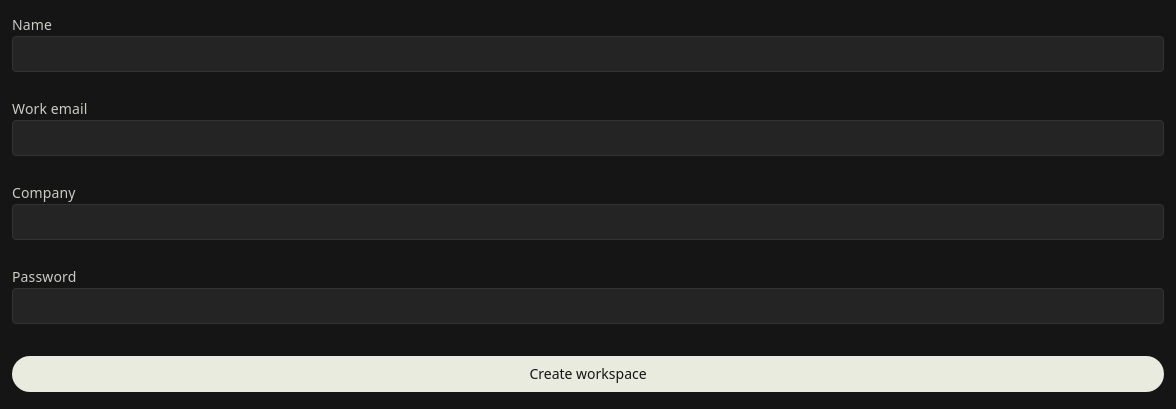
Test case: SignupForm › disables the button and swaps its label while signupAction is pending
Type "Ada Speke" into the field labelled "Name" at (588, 54), box top-left (12, 36), bottom-right (1164, 72)
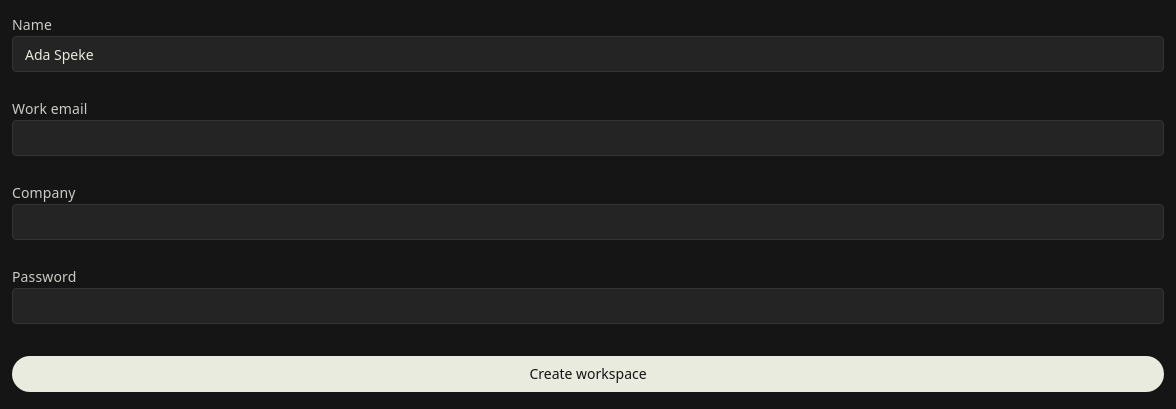
Type "ada@wexley.example" into the field labelled "Work email" at (588, 138), box top-left (12, 120), bottom-right (1164, 156)
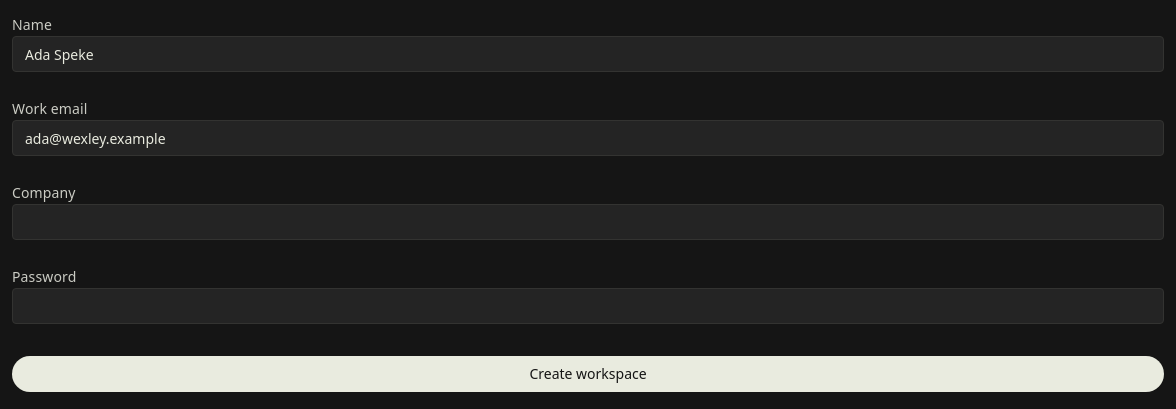
Type "Wexley" into the field labelled "Company" at (588, 222), box top-left (12, 204), bottom-right (1164, 240)
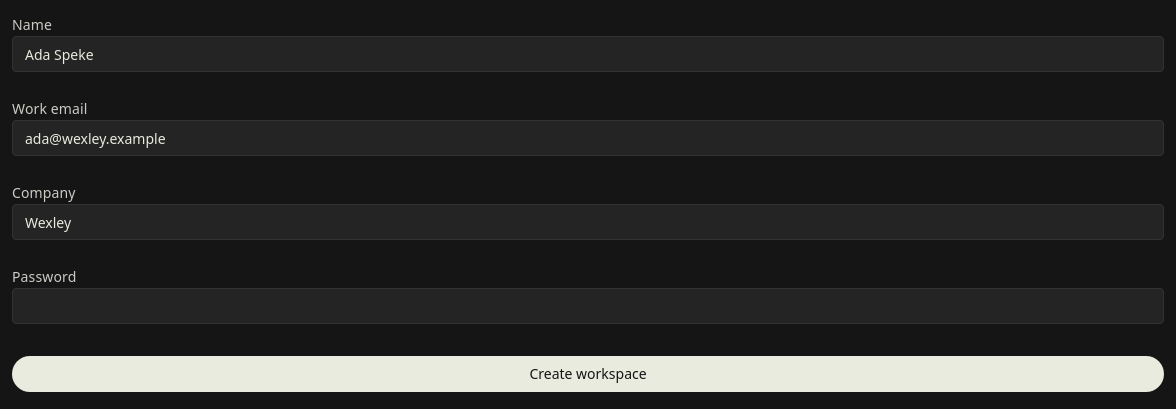
Type "correct-horse-1!" into the password field labelled "Password" at (588, 306), box top-left (12, 288), bottom-right (1164, 324)
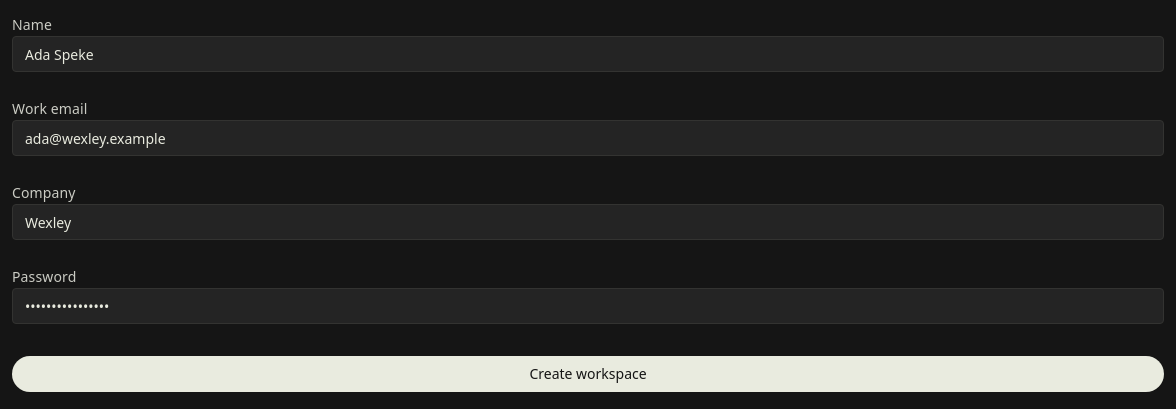
Click the button "Create workspace" at (588, 374), box top-left (12, 356), bottom-right (1164, 392)
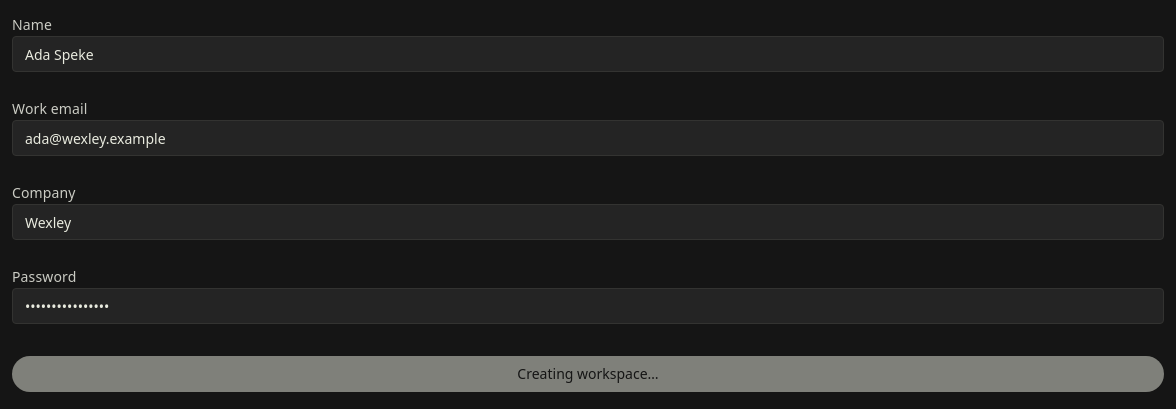
Now the button "Creating workspace…" is disabled, box top-left (12, 356), bottom-right (1164, 392)
